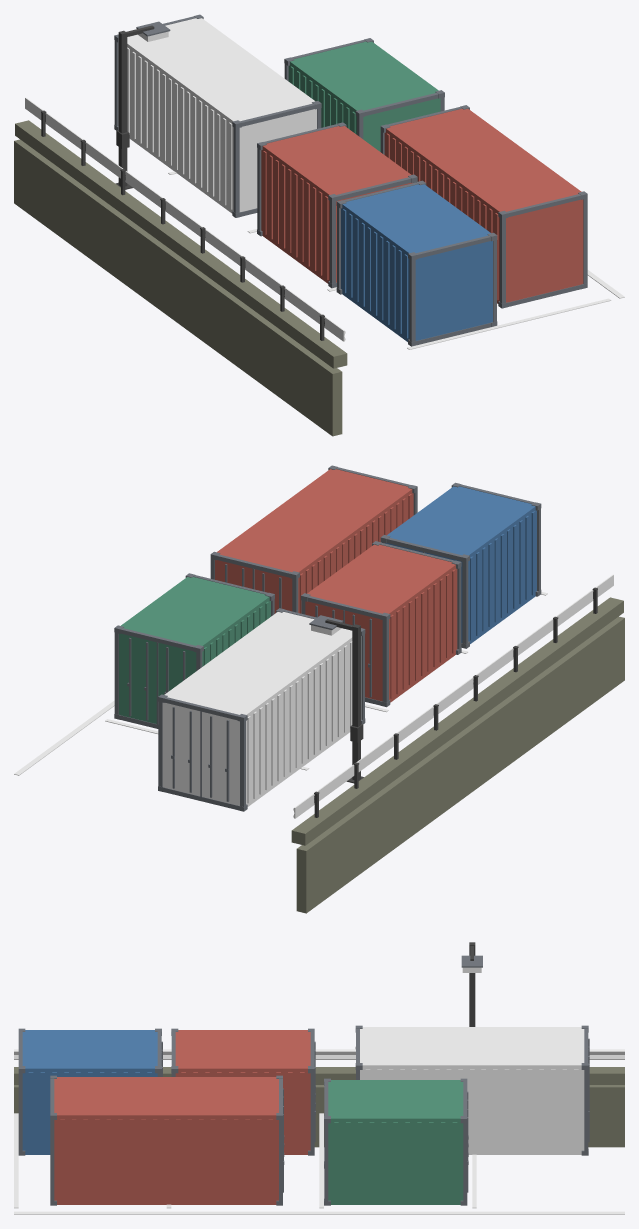
Rendered from platform_wall_close.fbx.
The picture shows the model from 3 angles, top to bottom: view 1: azimuth 30°, elevation 25°; view 2: azimuth 150°, elevation 25°; view 3: azimuth 270°, elevation 25°; orthographic projection. The views are drawn at different scales.
Visible parts, largest first — view 1: p463_platform_wall_close; view 2: p463_platform_wall_close; view 3: p463_platform_wall_close.
Boxes of the visible parts, x1,y1,x2,y2 form: p463_platform_wall_close: (14,14,624,436); p463_platform_wall_close: (14,465,624,913); p463_platform_wall_close: (14,942,624,1214).
Bounding box in the file's own units: 8.48 × 6.15 × 16.
